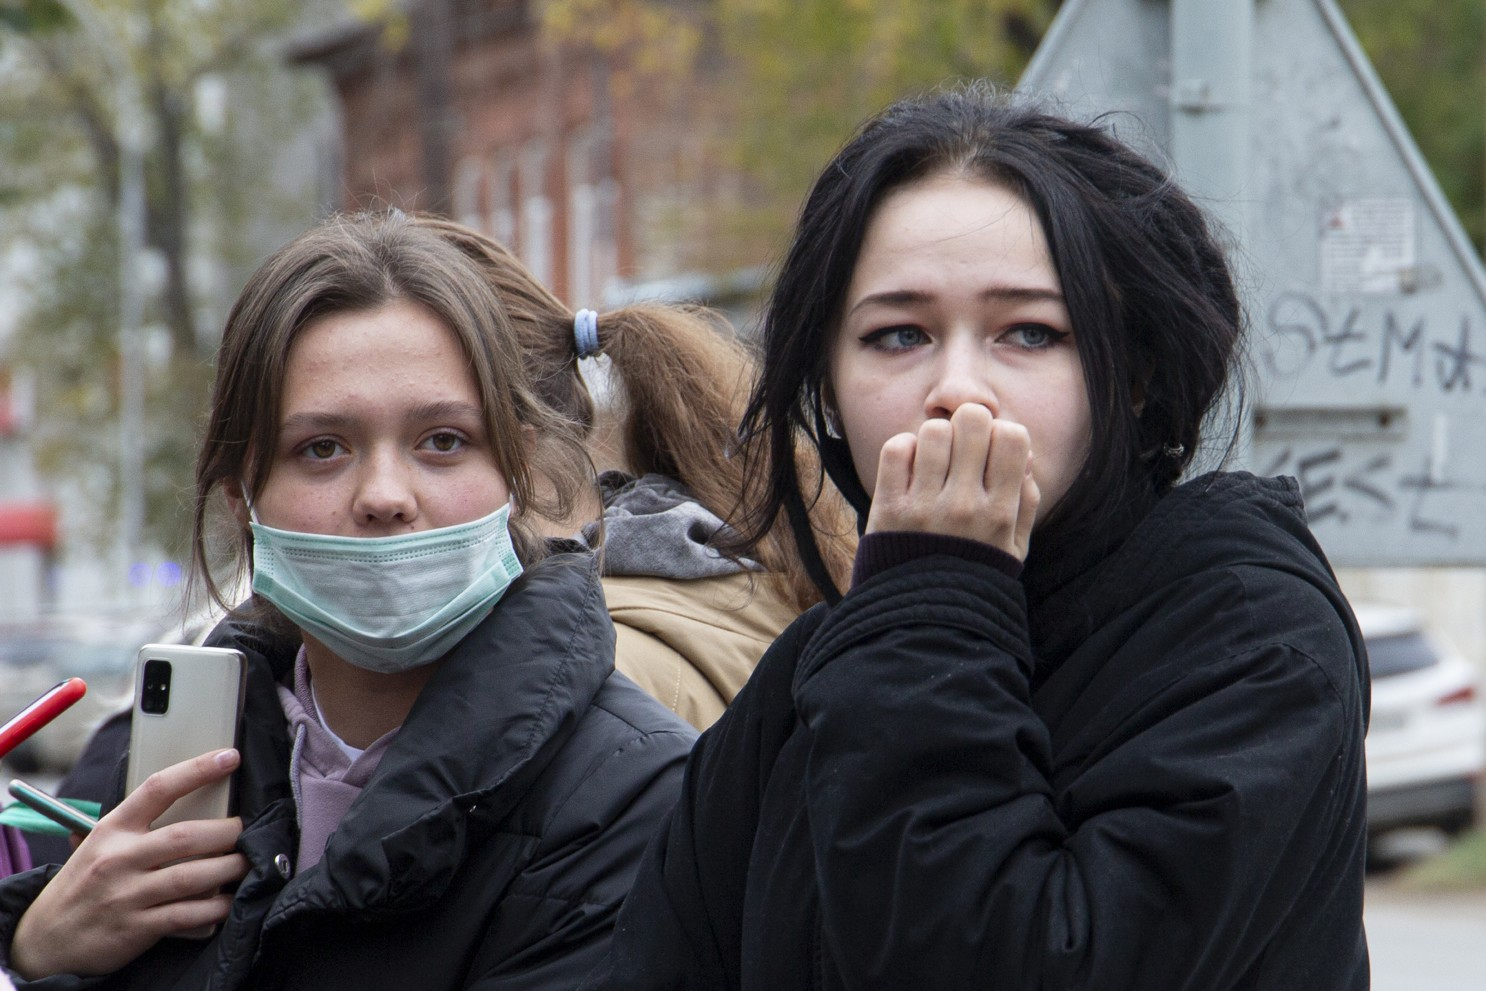with_incorrect_mask: (267, 404, 505, 599)
without_mask: (841, 276, 1083, 504)
